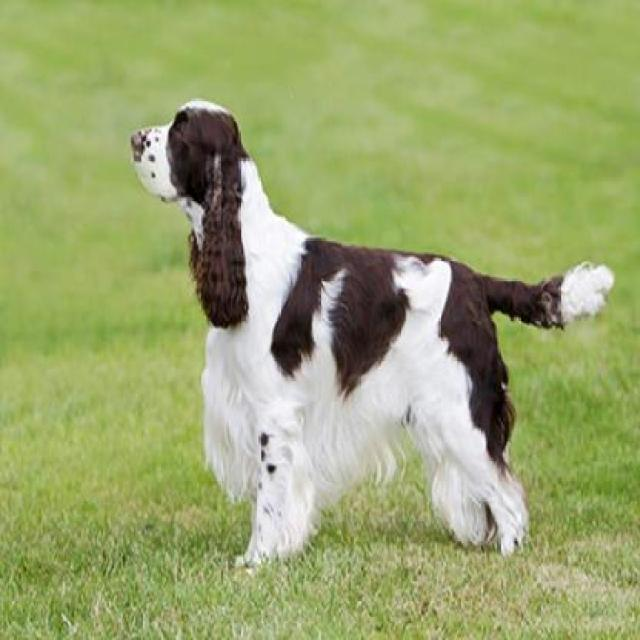animals: (121, 75, 618, 580)
